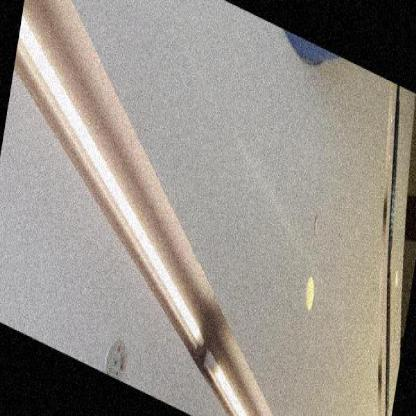light_on: (0, 15, 238, 364), (192, 338, 294, 415)
